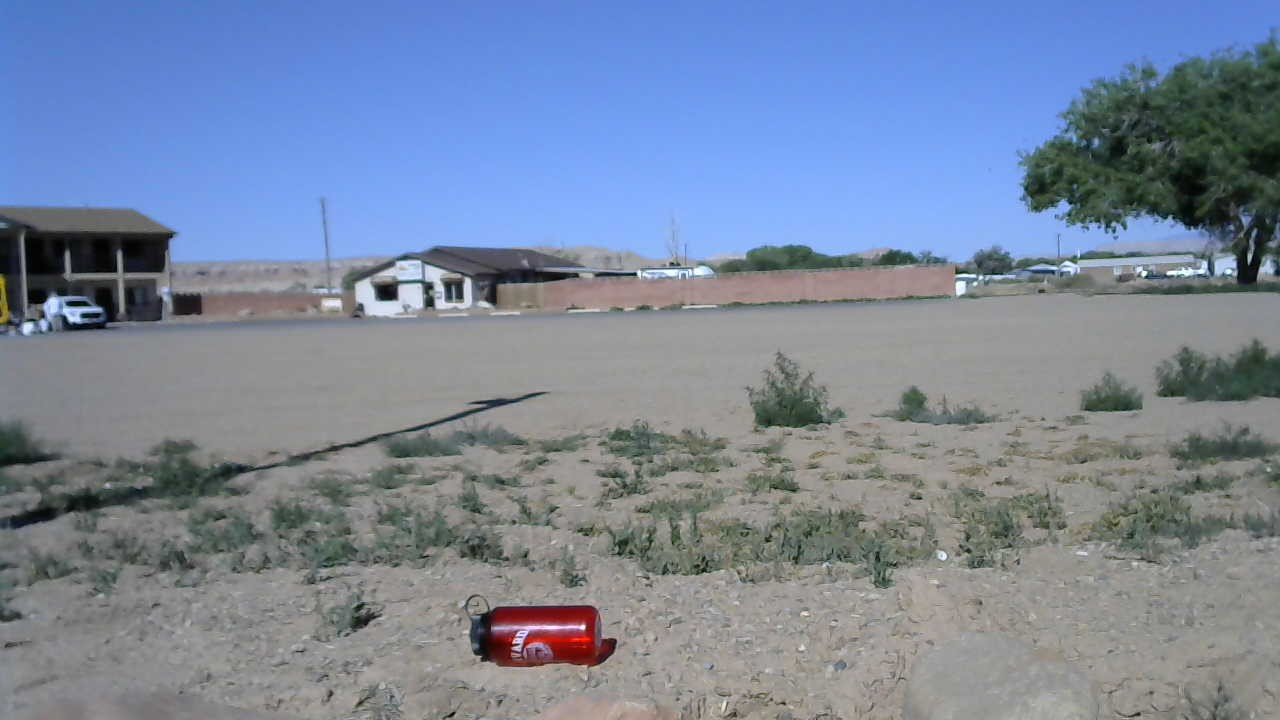bottle: (458, 588, 608, 668)
